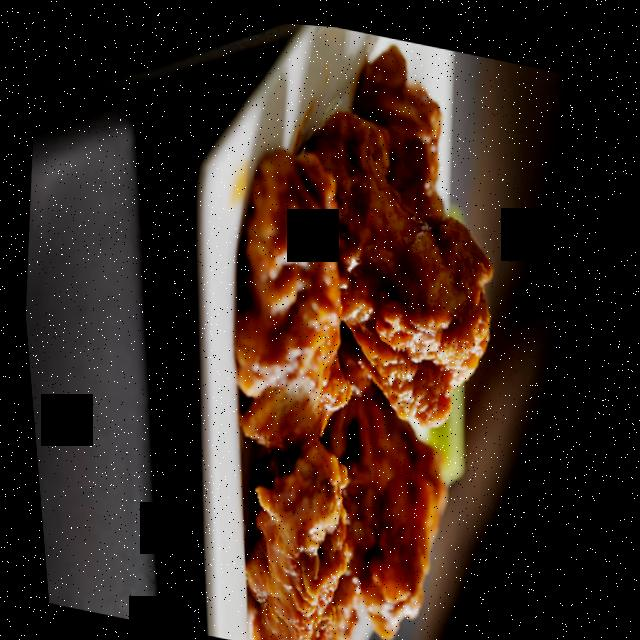Frango: (169, 11, 547, 640)
